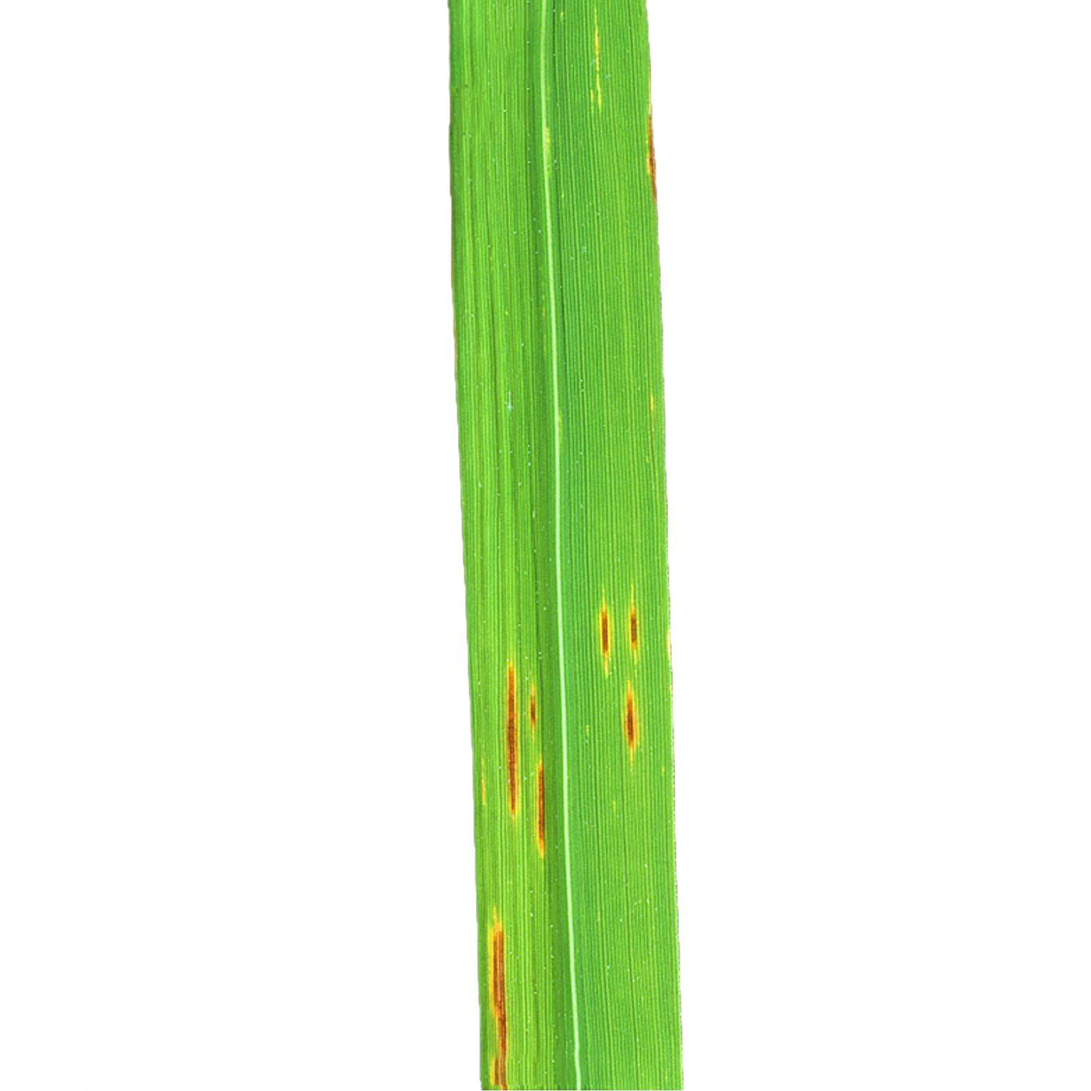LEAF: (450, 0, 681, 1090)
NBS: (486, 903, 509, 1090), (504, 662, 518, 821), (644, 66, 657, 210), (623, 682, 637, 770), (534, 756, 545, 862), (594, 8, 603, 115), (599, 596, 610, 682), (630, 580, 641, 660), (529, 683, 536, 739), (480, 773, 487, 806), (649, 392, 655, 412)
